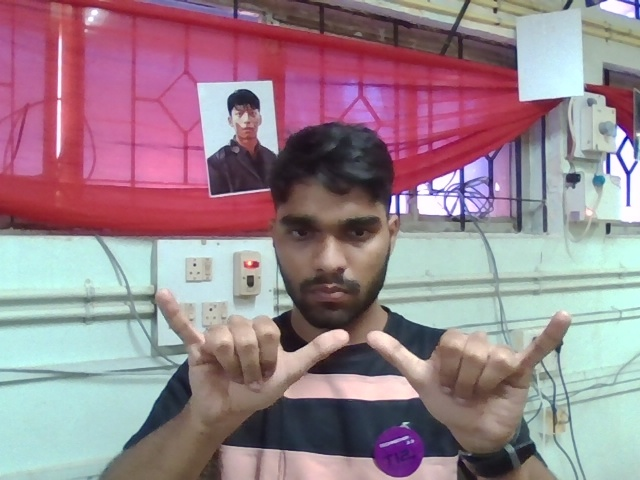play: (140, 274, 576, 459)
